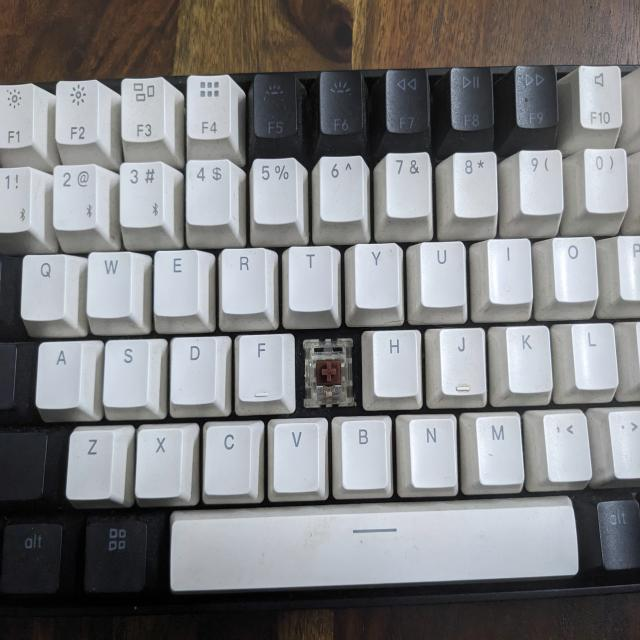C: (302, 330, 357, 416)
